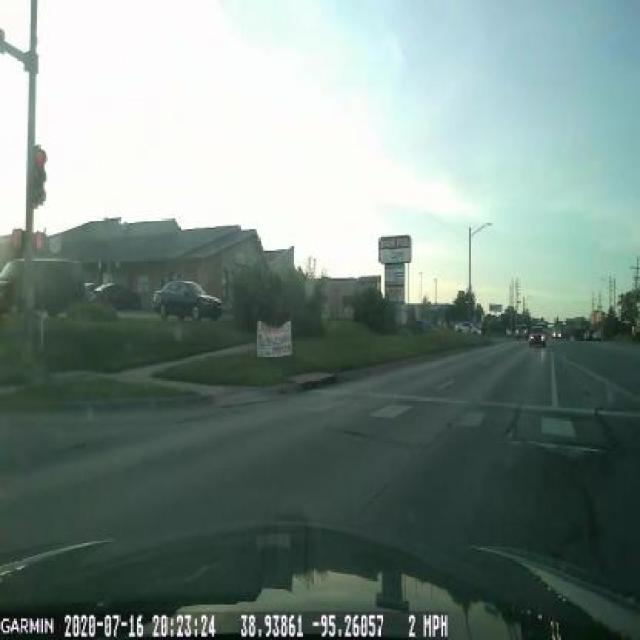Pothole: (507, 439, 615, 466)
